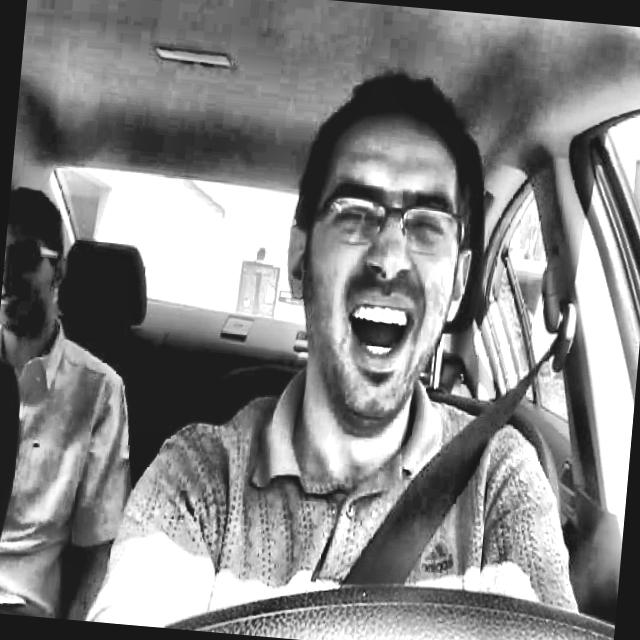closed_eyes: (398, 207, 460, 257), (326, 196, 388, 245)
open_mouth: (336, 283, 428, 385)
